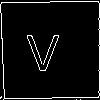V: (25, 24, 61, 72)
